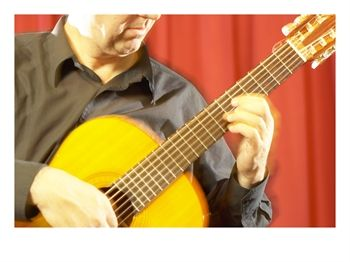guitar: (29, 14, 335, 227)
